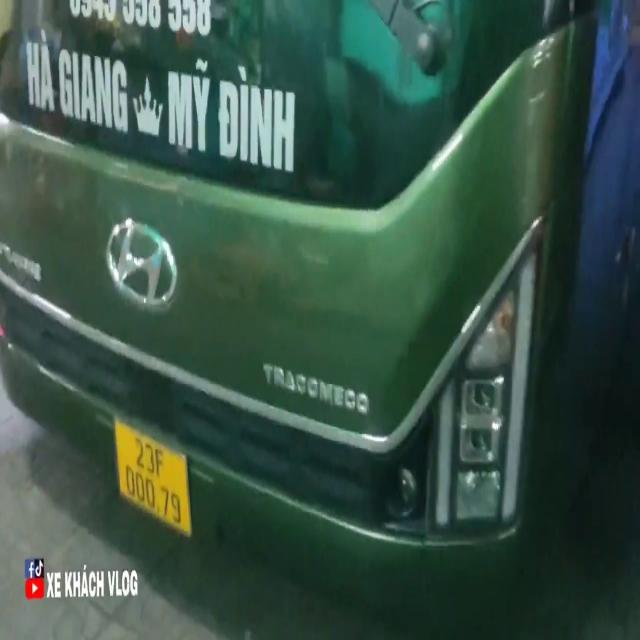bien_vang: (114, 424, 194, 540)
